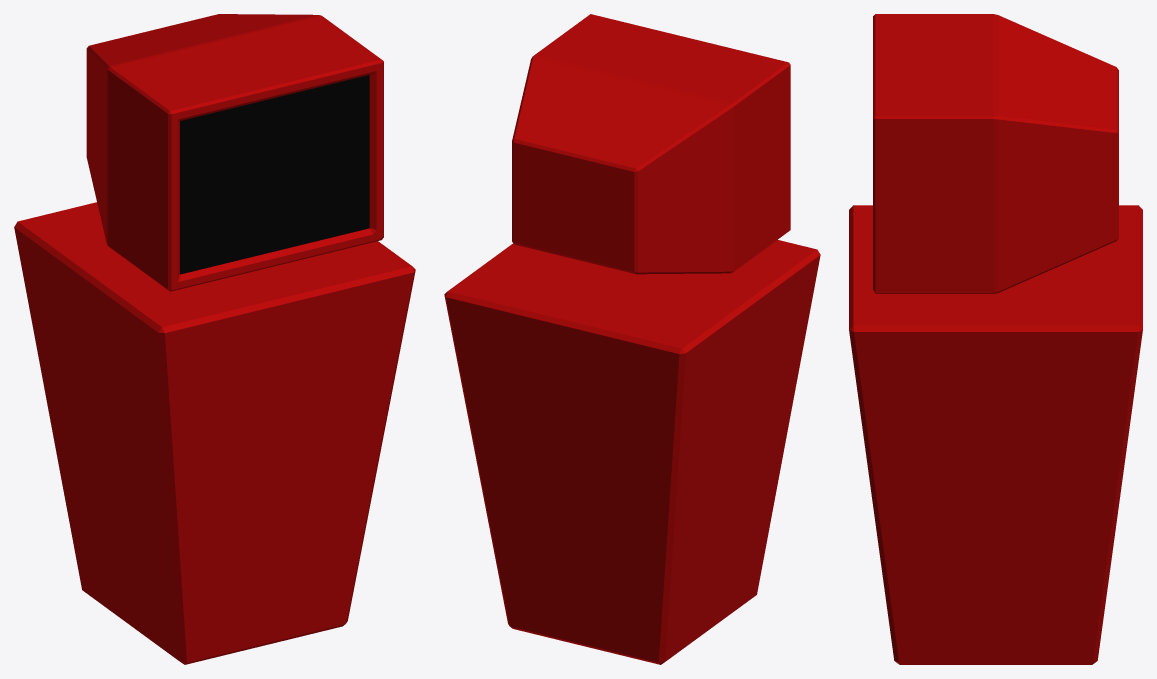
File: chara_red.glb
The picture shows the model from 3 angles, left to right: view 1: azimuth 30°, elevation 25°; view 2: azimuth 150°, elevation 25°; view 3: azimuth 270°, elevation 25°; orthographic projection. The views are drawn at different scales.
Visible parts, largest first — view 1: geo1; view 2: geo1; view 3: geo1.
Part boxes in pixels (x1,y1,x2,y2): geo1: (14,14,415,664); geo1: (444,14,820,664); geo1: (849,14,1142,664).
Bounding box in the file's own units: 0.9558 × 2.02 × 0.9563.
